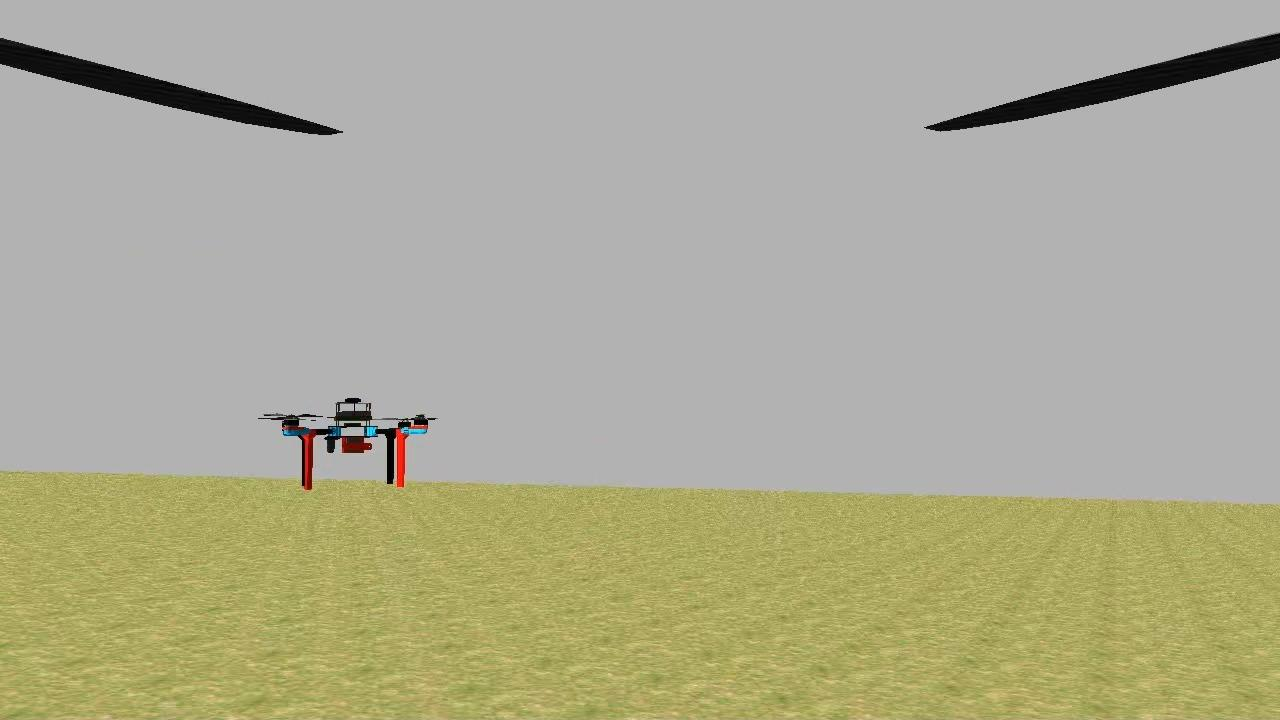UAV: (271, 387, 436, 497)
